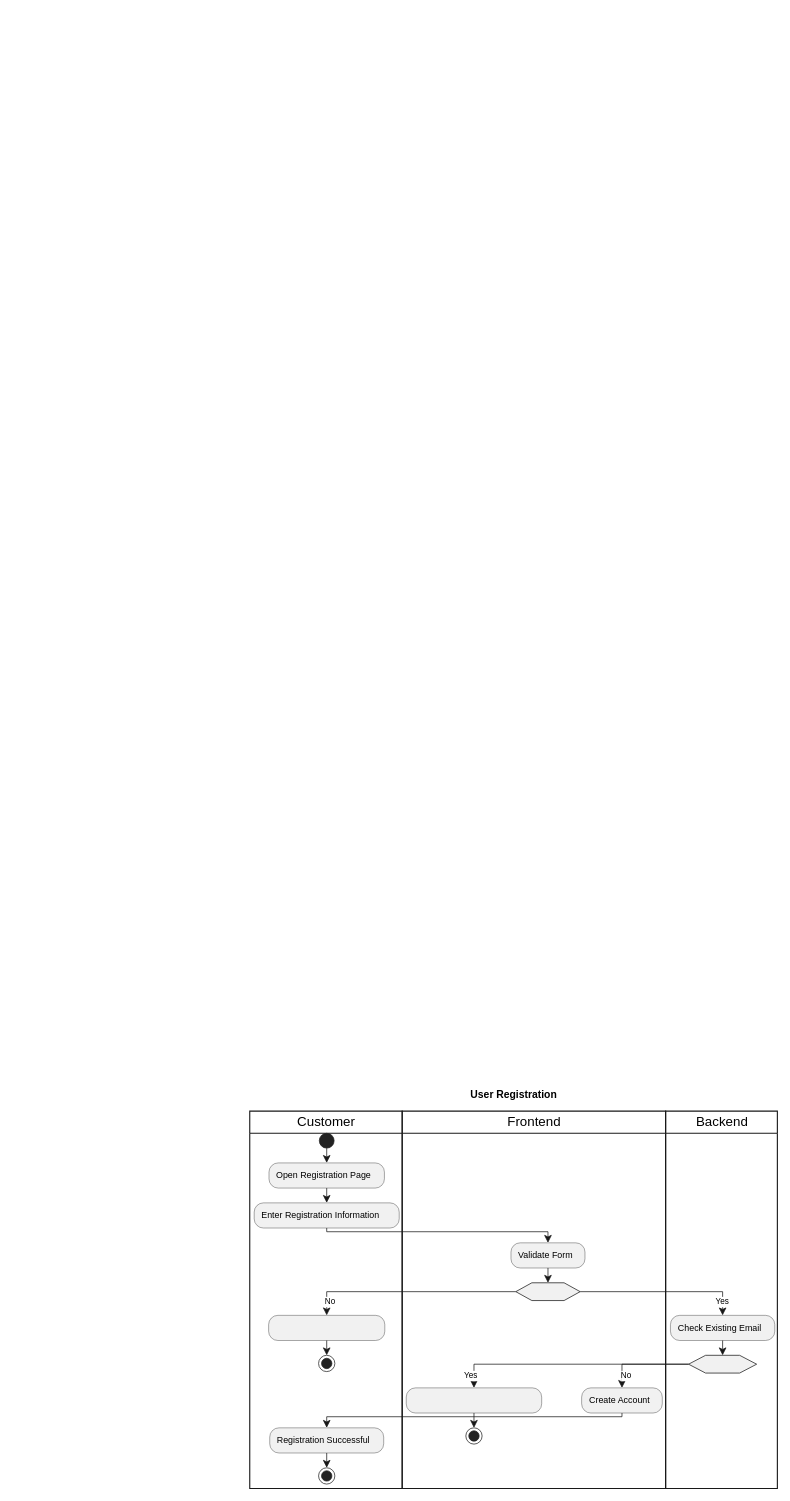
This 790x1501 diagram has some shape labels left out. The shapes that lost their labels are listed below. From the top down, each one's centre as x and y in pixels, then its label:
point 547,1291: Input Valid?
point 326,1327: Display Validation Error
point 722,1364: Email Exists?
point 474,1400: Display Email Already Exists
